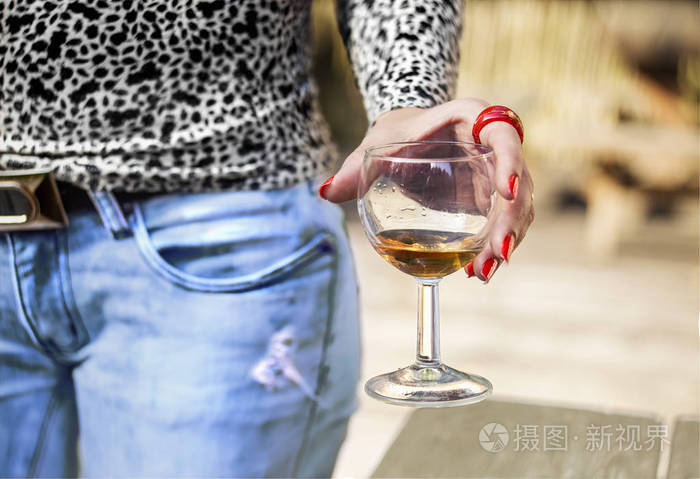no-phone: (313, 92, 539, 285)
